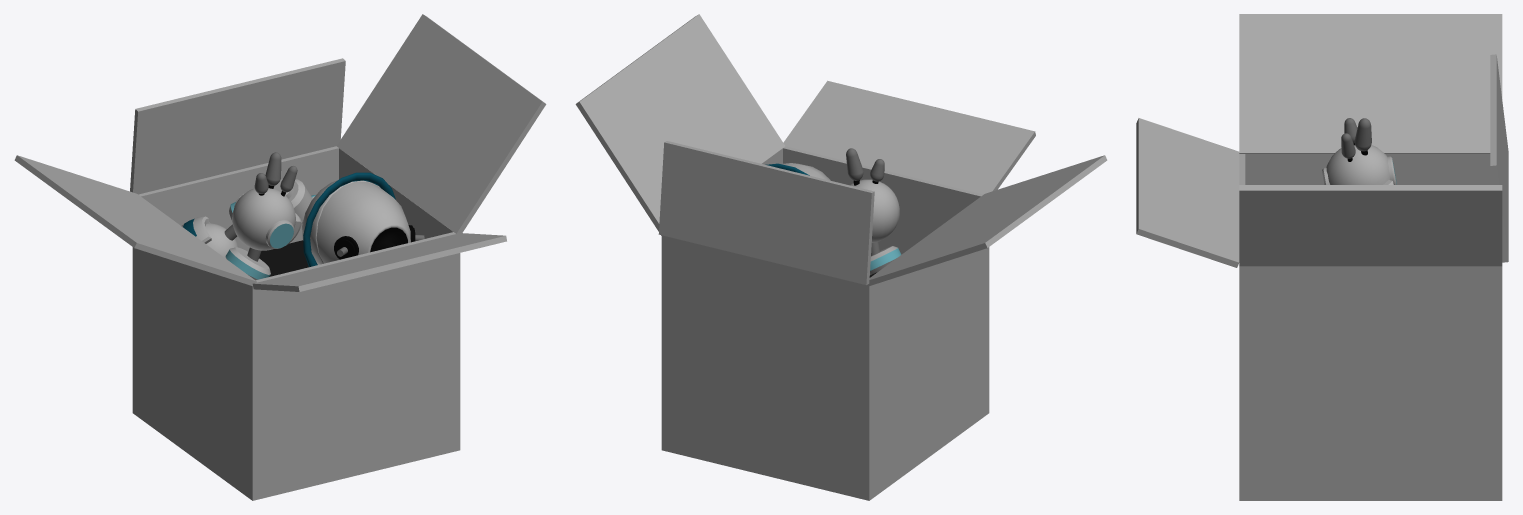
File: carton ouvert piece.fbx
3 views of the same model, side by side, from view 1: azimuth 30°, elevation 25°; view 2: azimuth 150°, elevation 25°; view 3: azimuth 270°, elevation 25° (orthographic). The views are drawn at different scales.
Visible parts, largest first — view 1: carton_ouvert_piece; view 2: carton_ouvert_piece; view 3: carton_ouvert_piece.
Boxes of the visible parts, bbox=[...] form: carton_ouvert_piece: bbox=[14, 14, 546, 500]; carton_ouvert_piece: bbox=[575, 14, 1107, 500]; carton_ouvert_piece: bbox=[1136, 14, 1508, 500].
Size of the model in its own units: 1.98 by 1.51 by 1.42.
